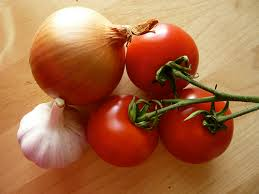onion: (28, 5, 126, 103), (17, 103, 85, 168)
tomato: (126, 21, 200, 95), (86, 95, 160, 168), (163, 89, 234, 164)
